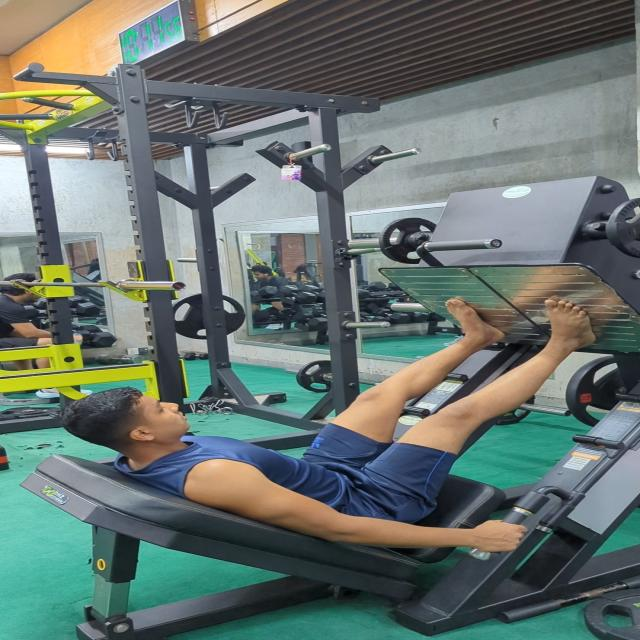Normal_LegPress: (62, 295, 608, 560)
